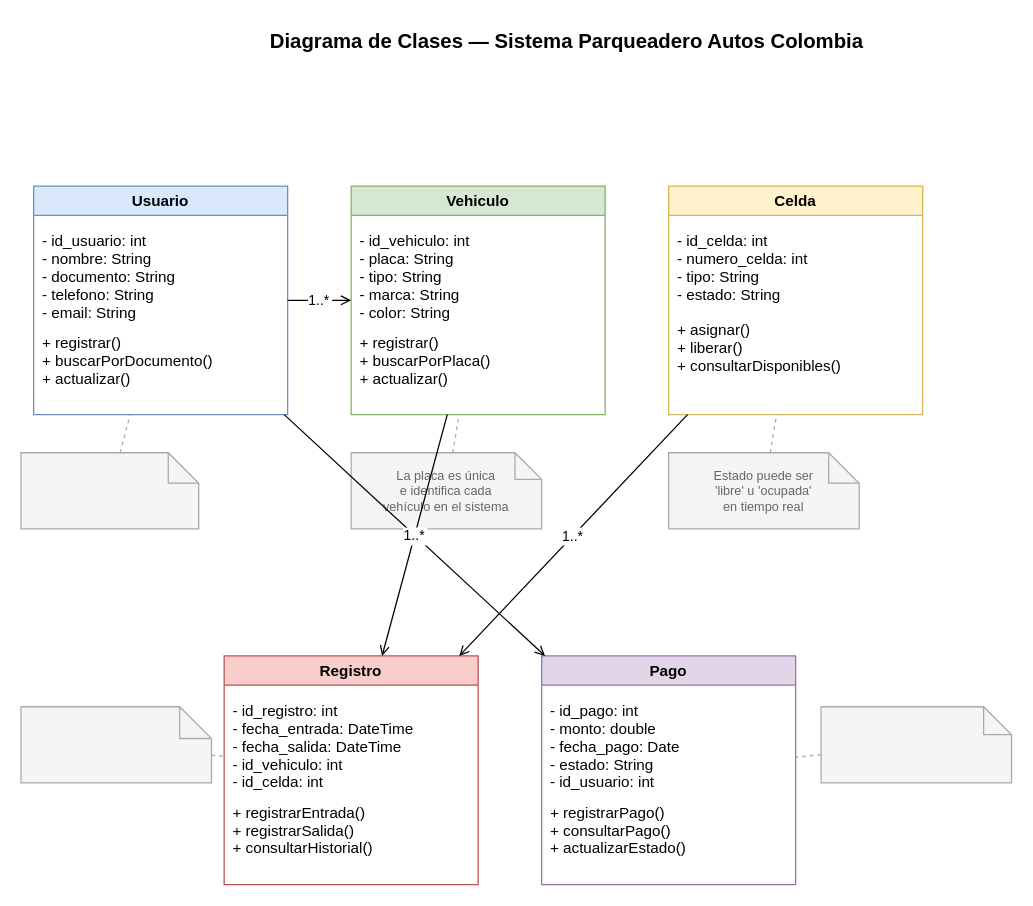
This 1033x906 diagram has some shape labels left out. Each missing label, with the box of its shape:
Controla entrada y salida de cada vehículo del parqueadero: (20, 705, 211, 783)
Estado puede ser 'pendiente' o 'pagado' por mensualidad: (820, 705, 1012, 783)
Persona que tiene uno o más vehículos registrados: (20, 451, 199, 529)
